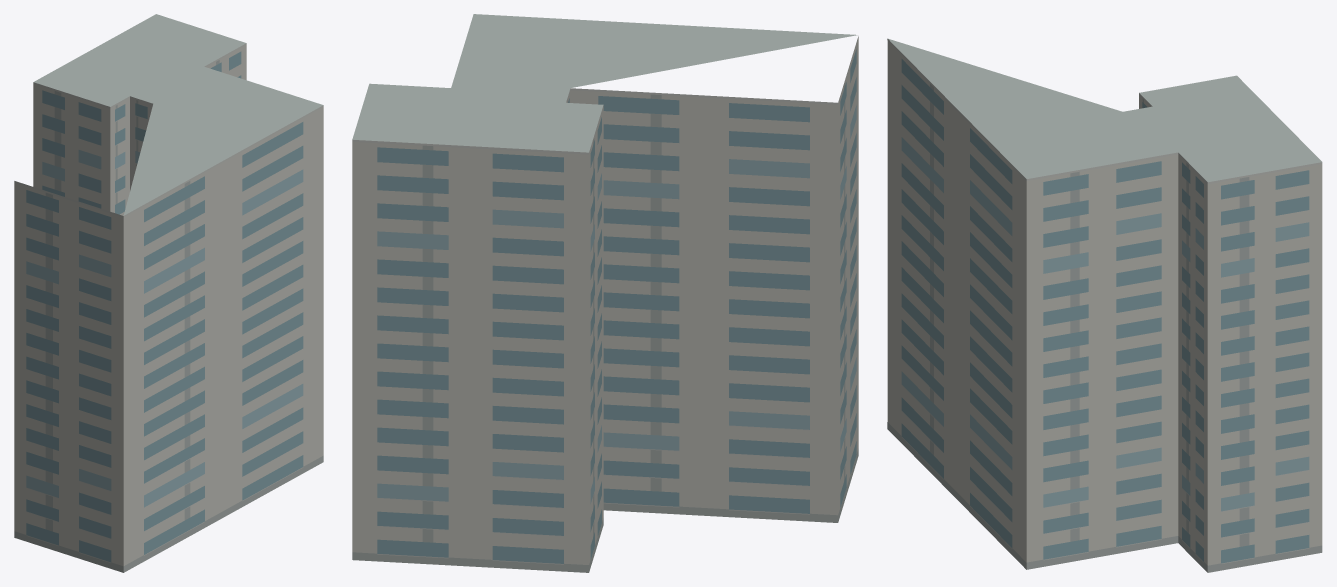
The model's file is residential-b96f07d9-d043-4141-a948-6f0e1ecb3e98.glb.
The picture shows the model from 3 angles, left to right: view 1: azimuth 30°, elevation 25°; view 2: azimuth 150°, elevation 25°; view 3: azimuth 270°, elevation 25°; orthographic projection. The views are drawn at different scales.
Visible parts, largest first — view 1: residential-b96f07d9-d043-4141-a948-6f0e1ecb3e98.tmp; view 2: residential-b96f07d9-d043-4141-a948-6f0e1ecb3e98.tmp; view 3: residential-b96f07d9-d043-4141-a948-6f0e1ecb3e98.tmp.
Boxes of the visible parts, x1,y1,x2,y2 form: residential-b96f07d9-d043-4141-a948-6f0e1ecb3e98.tmp: (14,14,323,572); residential-b96f07d9-d043-4141-a948-6f0e1ecb3e98.tmp: (352,14,858,572); residential-b96f07d9-d043-4141-a948-6f0e1ecb3e98.tmp: (887,38,1322,572).
Size of the model in its own units: 47.13 by 51 by 51.47.
